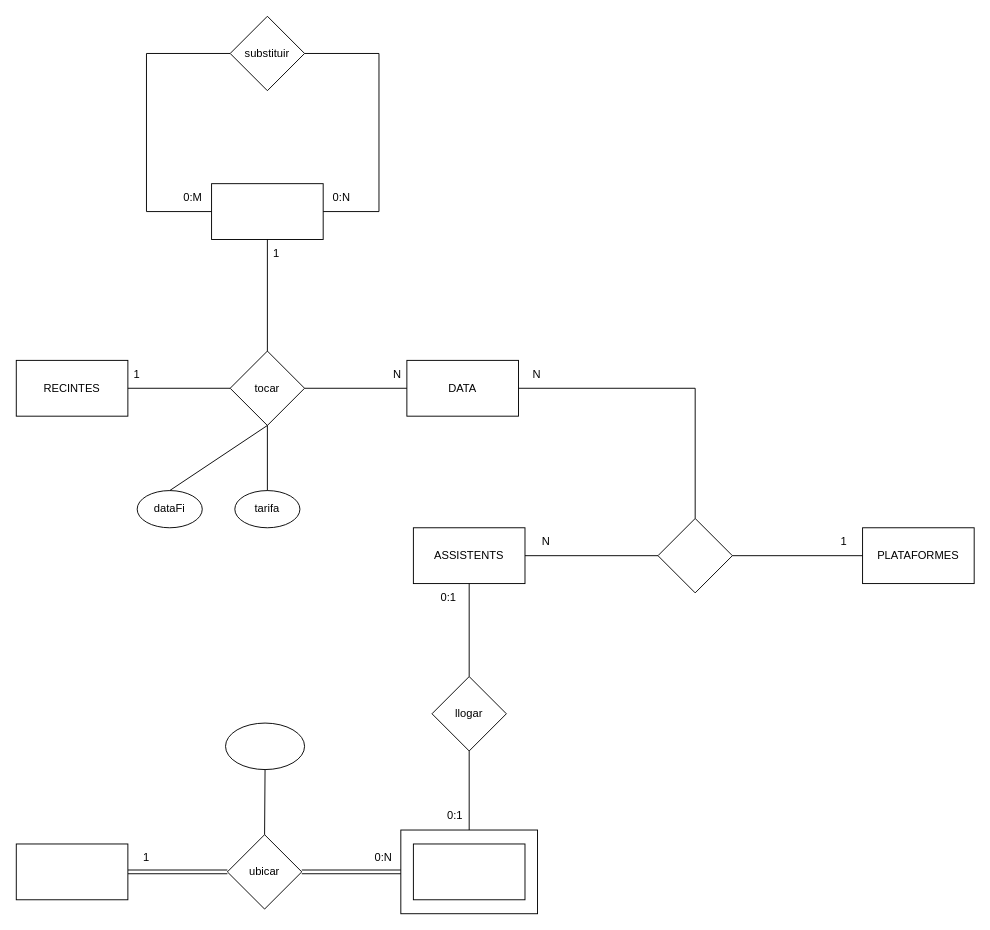
Image size: 990x930. Some labels were removed from this diagram. The centre of each missing label's shape, as x and y in pixels:
"CARRERS" belongs at point 71,871.
"comprar" belongs at point 694,555.
"GRUPS" belongs at point 267,211.
"NumEntrades" belongs at point 265,746.
"PARCEL·LES" belongs at point 468,871.
